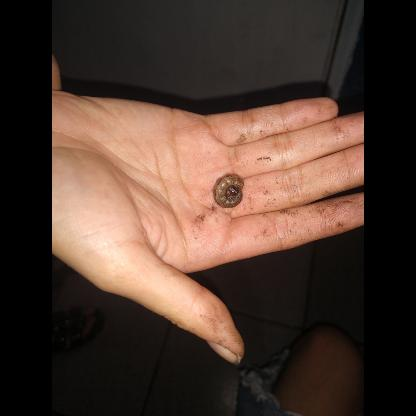Fall Armyworm Larvae: (210, 172, 246, 210)
